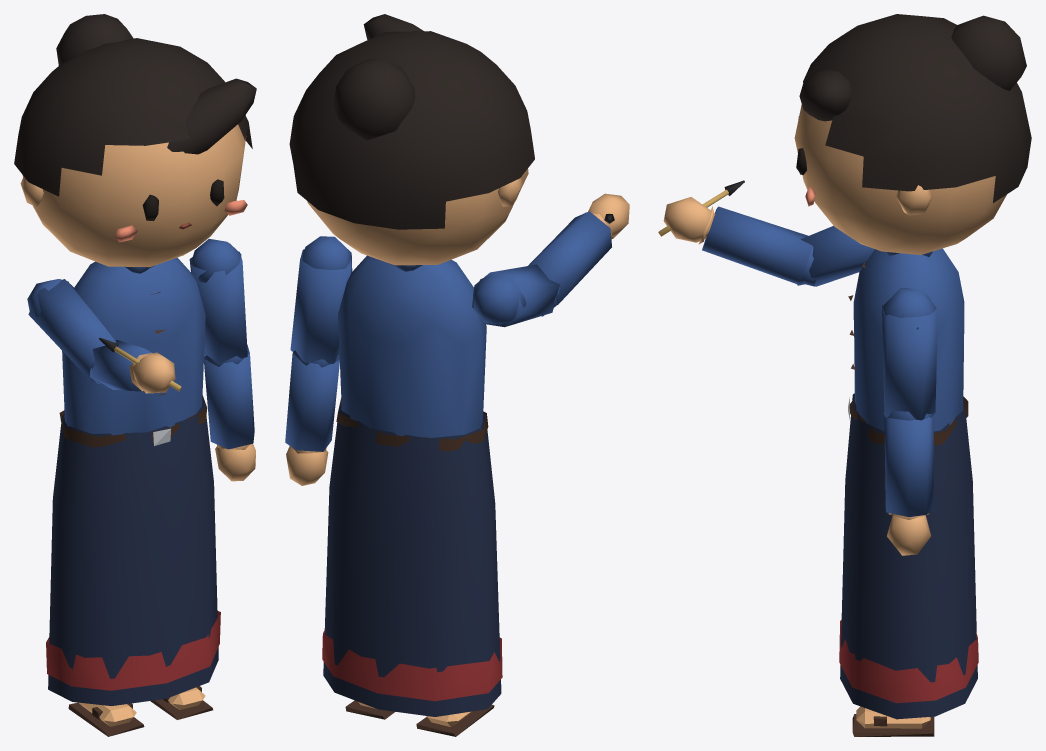
Rendered from south_korlae_painter.glb.
The picture shows the model from 3 angles, left to right: view 1: azimuth 30°, elevation 25°; view 2: azimuth 150°, elevation 25°; view 3: azimuth 270°, elevation 25°; orthographic projection. The views are drawn at different scales.
Visible parts, largest first — view 1: body, head, arm_L, forearm_L, arm_R, forearm_R, shin_R, shin_L; view 2: body, head, arm_L, forearm_L, forearm_R, arm_R, shin_R; view 3: head, body, forearm_R, arm_L, forearm_L, arm_R, shin_L.
Boxes of the visible parts, x1=… form: body: x1=46, y1=257, x2=220, y2=705; head: x1=14, y1=14, x2=256, y2=267; arm_L: x1=189, y1=239, x2=249, y2=366; forearm_L: x1=204, y1=344, x2=255, y2=481; arm_R: x1=27, y1=279, x2=116, y2=383; forearm_R: x1=90, y1=340, x2=175, y2=393; shin_R: x1=68, y1=702, x2=144, y2=736; shin_L: x1=150, y1=686, x2=212, y2=719; body: x1=322, y1=255, x2=502, y2=716; head: x1=289, y1=14, x2=534, y2=265; arm_L: x1=290, y1=236, x2=352, y2=367; forearm_L: x1=285, y1=353, x2=339, y2=485; forearm_R: x1=528, y1=193, x2=629, y2=304; arm_R: x1=472, y1=264, x2=560, y2=327; shin_R: x1=416, y1=705, x2=494, y2=736; head: x1=794, y1=14, x2=1031, y2=254; body: x1=839, y1=248, x2=978, y2=719; forearm_R: x1=663, y1=197, x2=813, y2=285; arm_L: x1=882, y1=288, x2=937, y2=420; forearm_L: x1=884, y1=409, x2=933, y2=555; arm_R: x1=801, y1=226, x2=874, y2=286; shin_L: x1=852, y1=706, x2=934, y2=736.
Bounding box in the file's own units: 0.547 × 1.47 × 0.7194.
